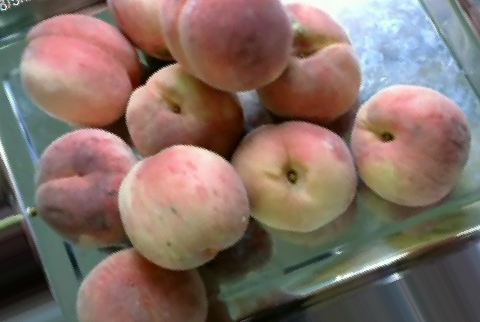Peach: (120, 146, 246, 269), (350, 84, 471, 205), (232, 121, 355, 232), (23, 11, 139, 126), (157, 0, 290, 89), (34, 131, 139, 243), (259, 4, 359, 120), (125, 64, 245, 155), (74, 245, 206, 321)
